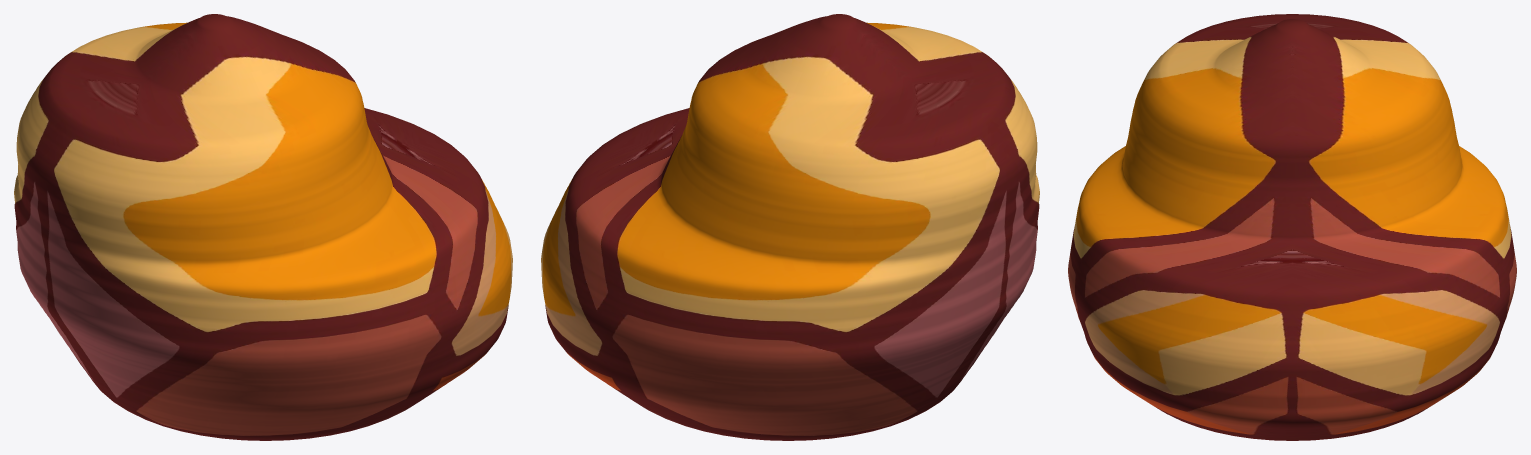
Rendered from lava_boulders.glb.
The picture shows the model from 3 angles, left to right: view 1: azimuth 30°, elevation 25°; view 2: azimuth 150°, elevation 25°; view 3: azimuth 270°, elevation 25°; orthographic projection. The views are drawn at different scales.
Parts seen in each view (by area): view 1: lava_boulders; view 2: lava_boulders; view 3: lava_boulders.
Boxes of the visible parts, x1,y1,x2,y2 form: lava_boulders: (14,14,512,440); lava_boulders: (541,14,1039,440); lava_boulders: (1068,14,1516,440).
Bounding box in the file's own units: 1 × 0.8205 × 0.974.
Materials: 1 (1 with a texture image).
